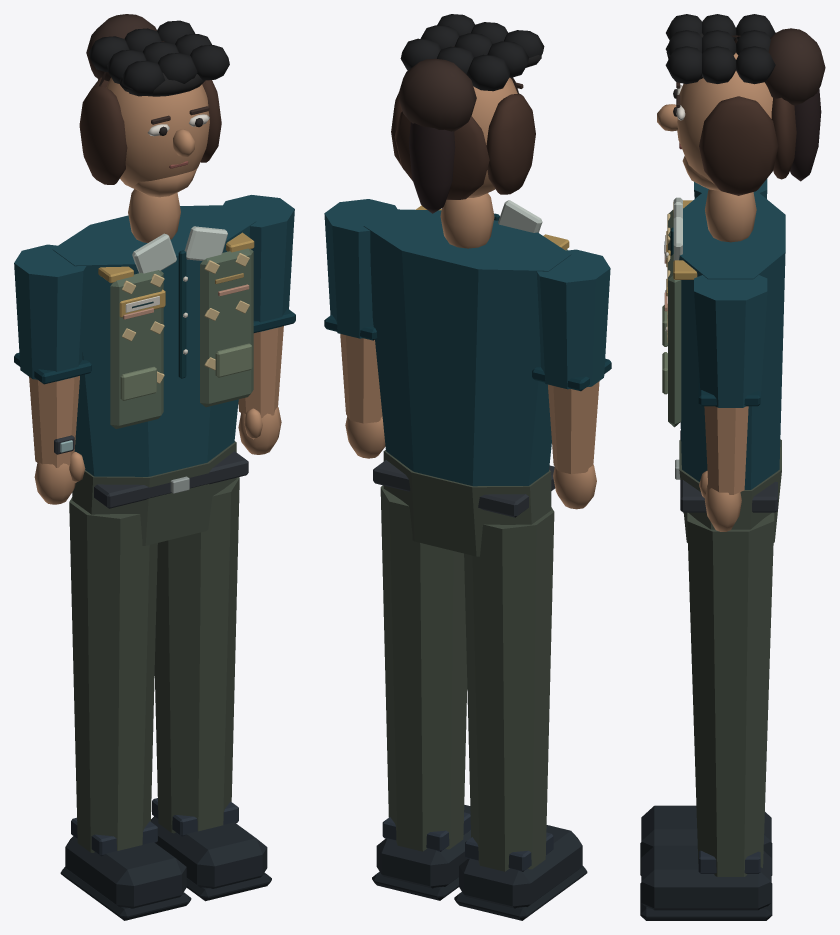
File: theater-npcs.glb
3 renders of one model, left to right at view 1: azimuth 30°, elevation 25°; view 2: azimuth 150°, elevation 25°; view 3: azimuth 270°, elevation 25°, orthographic. The views are drawn at different scales.
Visible parts, largest first — view 1: NPC_Staff_01_Body, NPC_Visitor_02_Body, NPC_Visitor_02_Leg_L, NPC_Visitor_02_Leg_R, NPC_Staff_01_Arm_L, NPC_Staff_01_Arm_R, NPC_Staff_01_Leg_L, NPC_Staff_01_Leg_R, NPC_Visitor_03_Body, NPC_Staff_02_Body; view 2: NPC_Staff_01_Body, NPC_Visitor_02_Leg_L, NPC_Visitor_02_Leg_R, NPC_Staff_01_Arm_L, NPC_Visitor_02_Body, NPC_Staff_01_Arm_R, NPC_Visitor_03_Body, NPC_Staff_01_Leg_L, NPC_Staff_01_Leg_R, NPC_Staff_03_Body; view 3: NPC_Staff_01_Body, NPC_Visitor_02_Leg_R, NPC_Staff_01_Arm_R, NPC_Visitor_02_Body, NPC_Staff_01_Leg_R, NPC_Visitor_03_Body, NPC_Staff_01_Leg_L, NPC_Staff_03_Body.
Part boxes in pixels (x1,y1,x2,y2): NPC_Staff_01_Body: [52, 14, 256, 508]; NPC_Visitor_02_Body: [72, 20, 253, 545]; NPC_Visitor_02_Leg_L: [69, 497, 157, 852]; NPC_Visitor_02_Leg_R: [154, 477, 239, 833]; NPC_Staff_01_Arm_L: [14, 244, 91, 504]; NPC_Staff_01_Arm_R: [223, 195, 295, 454]; NPC_Staff_01_Leg_L: [60, 817, 191, 920]; NPC_Staff_01_Leg_R: [151, 798, 271, 901]; NPC_Visitor_03_Body: [79, 77, 249, 383]; NPC_Staff_02_Body: [119, 72, 205, 96]; NPC_Staff_01_Body: [363, 46, 571, 517]; NPC_Visitor_02_Leg_L: [464, 507, 554, 871]; NPC_Visitor_02_Leg_R: [380, 485, 467, 851]; NPC_Staff_01_Arm_L: [532, 249, 611, 509]; NPC_Visitor_02_Body: [383, 14, 567, 556]; NPC_Staff_01_Arm_R: [324, 199, 397, 458]; NPC_Visitor_03_Body: [391, 93, 535, 199]; NPC_Staff_01_Leg_L: [454, 825, 587, 920]; NPC_Staff_01_Leg_R: [372, 805, 470, 900]; NPC_Staff_03_Body: [409, 122, 455, 213]; NPC_Staff_01_Body: [657, 28, 825, 512]; NPC_Visitor_02_Leg_R: [687, 512, 774, 876]; NPC_Staff_01_Arm_R: [694, 275, 767, 531]; NPC_Visitor_02_Body: [662, 14, 781, 542]; NPC_Staff_01_Leg_R: [640, 845, 772, 920]; NPC_Visitor_03_Body: [667, 96, 796, 380]; NPC_Staff_01_Leg_L: [640, 805, 772, 875]; NPC_Staff_03_Body: [790, 89, 821, 181].
Size of the model in its own units: 0.5926 by 1.78 by 0.3495.
